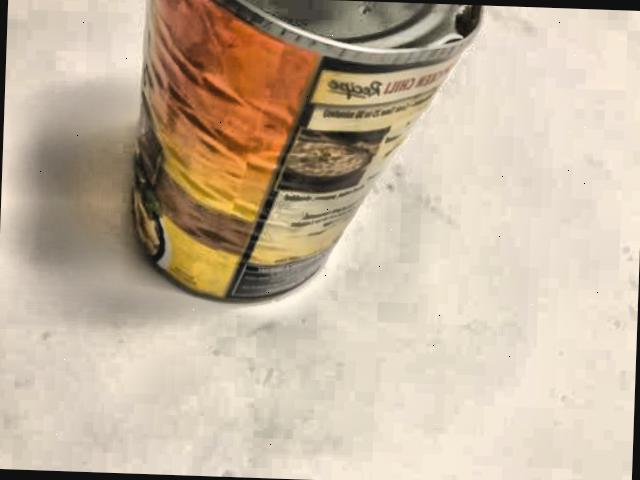Almennt: (102, 0, 507, 324)
